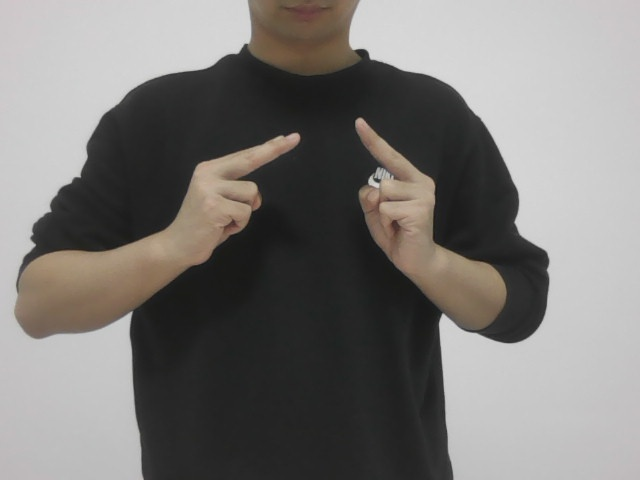know: (173, 111, 449, 289)
